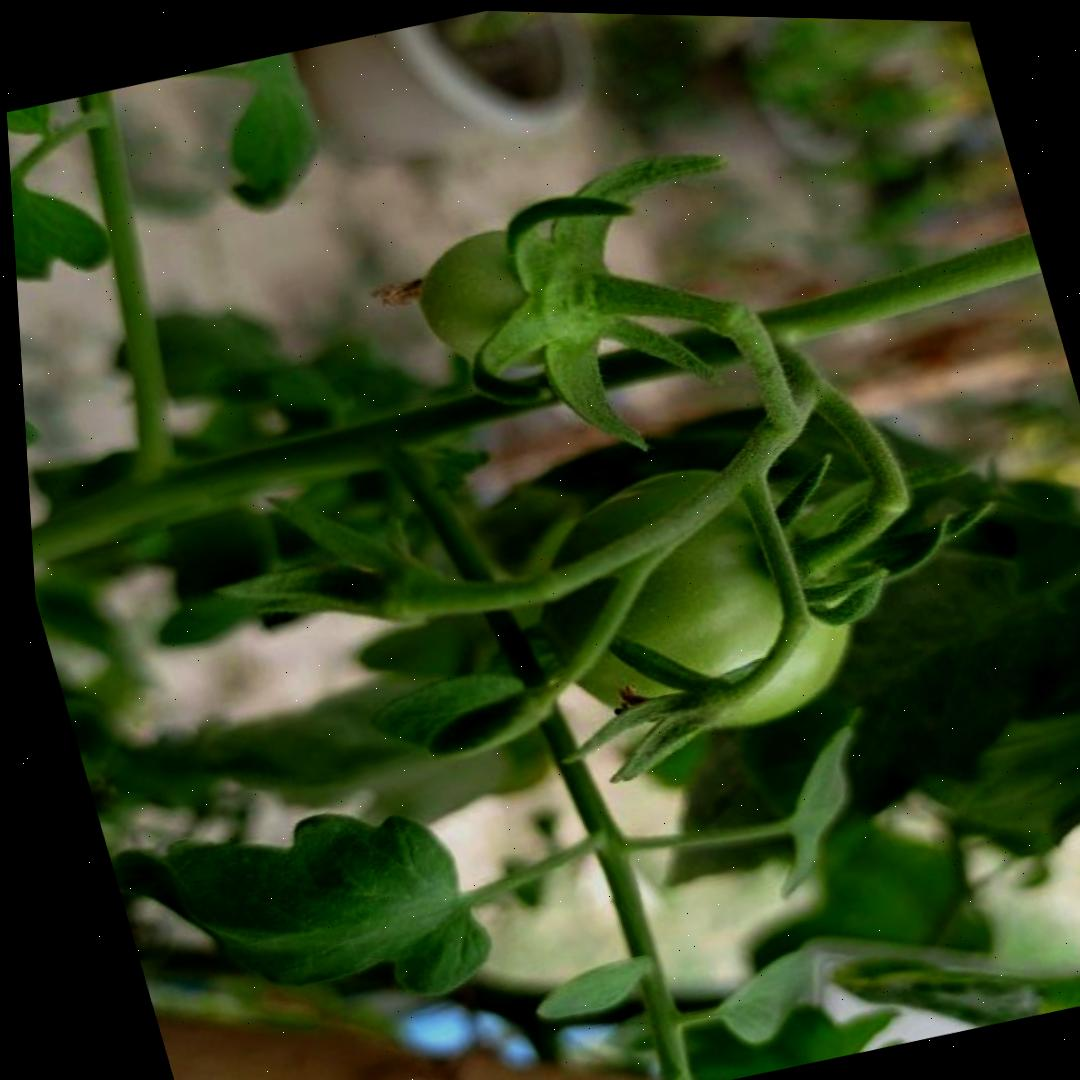mentah: (499, 432, 889, 769), (398, 207, 610, 389)
